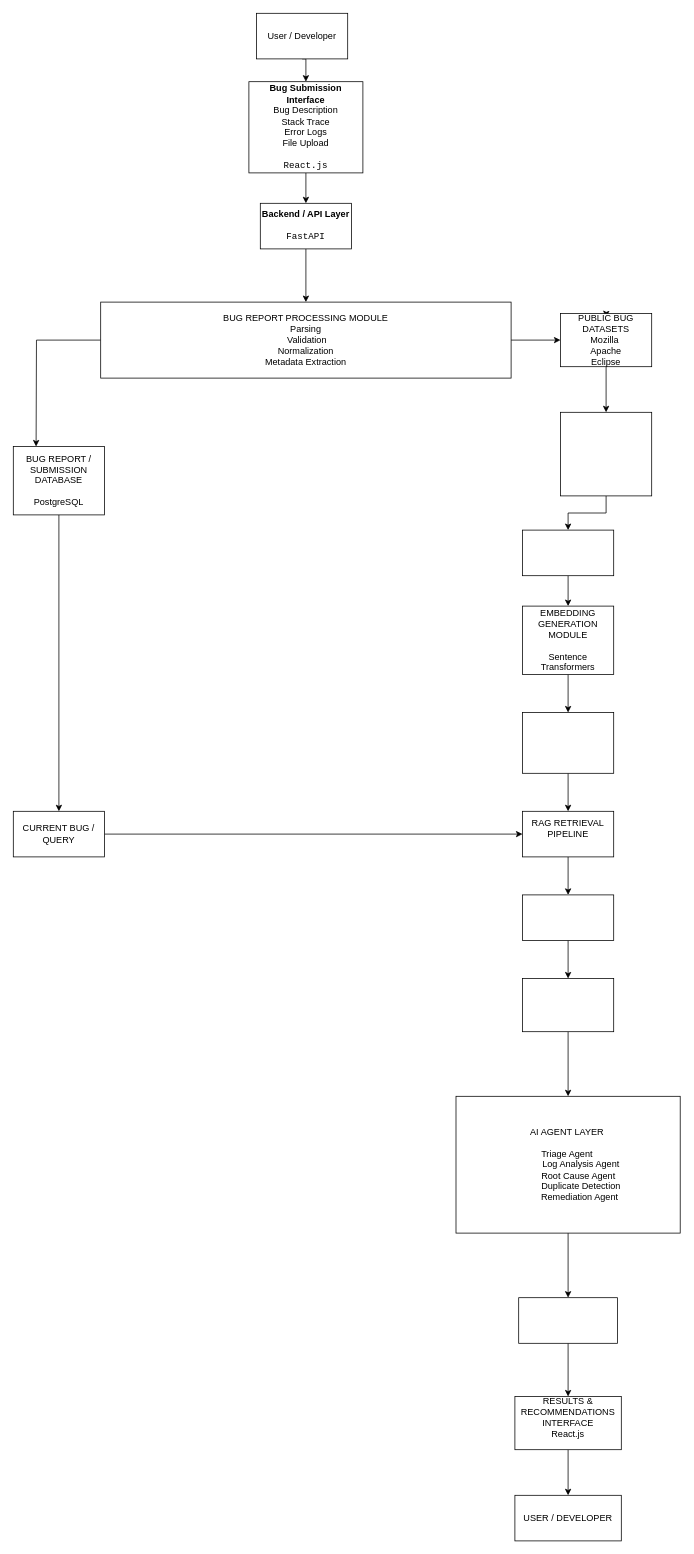
Some shapes in this 694 by 1554 pixel diagram are drawn without their labels. The shapes that lost their labels are listed below. From the top down, each one's box as (x1, y1, x2, y2) in pixels, then its label:
(560, 412, 652, 496): HISTORICAL DEFECT KNOWLEDGE BASE Mozilla Apache Eclipse
(522, 529, 614, 576): DATA CLEANING & CHUNKING PIPELINE
(522, 712, 614, 773): VECTOR DATABASE / SEMANTIC SEARCH ChromaDB
(522, 894, 614, 940): LLM
(522, 978, 614, 1032): AGENT ORCHESTRATOR Coordinates the five agents
(518, 1297, 618, 1343): STRUCTURED FINDINGS / DIAGNOSIS MODULE
